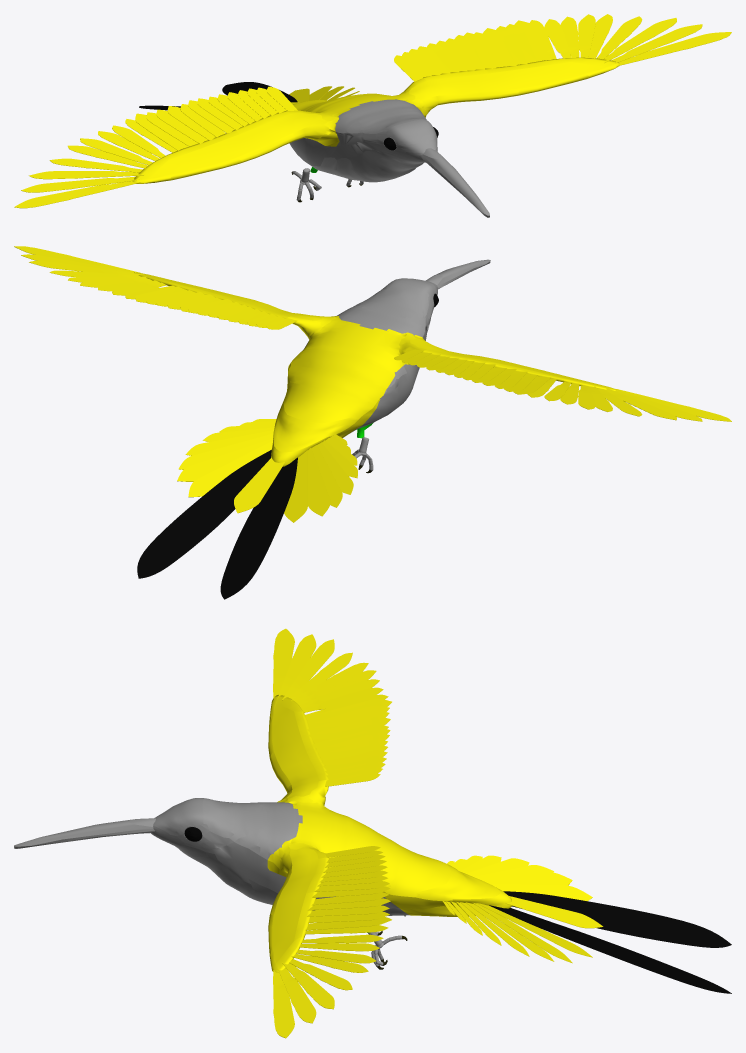
Rendered from Bird.obj.
3 views of the same model, one above another, from view 1: azimuth 30°, elevation 25°; view 2: azimuth 150°, elevation 25°; view 3: azimuth 270°, elevation 25° (orthographic). The views are drawn at different scales.
Visible parts, largest first — view 1: Body01, Bodu, Chub, Kluv, RFeath01, LFeath01, LFeath02, RFeath02, LFeath03, RFeath03, RFeath04, LFeath04 (+8 smaller); view 2: Body01, Pero01, Pero02, Bodu, Chub, Kluv, RFeath01, LFeath01; view 3: Body01, Bodu, Pero02, Chub, Pero01, Kluv, LFeath01, RFeath01, LFeath02, RFeath03, RFeath02, LFeath03 (+1 smaller).
Part boxes in pixels (x1,y1,x2,y2): Body01: (112,19,619,183); Bodu: (289,99,426,182); Chub: (359,108,437,156); Kluv: (419,148,489,217); RFeath01: (14,181,140,208); LFeath01: (616,32,731,66); LFeath02: (611,24,702,63); RFeath02: (21,176,138,192); LFeath03: (604,18,676,62); RFeath03: (29,171,144,179); RFeath04: (49,158,142,172); LFeath04: (597,16,642,59); Body01: (112,272,619,522); Pero01: (137,449,271,578); Pero02: (220,457,297,599); Bodu: (303,294,434,432); Chub: (359,278,437,318); Kluv: (425,259,490,289); RFeath01: (616,389,731,421); LFeath01: (14,246,140,272); Body01: (267,687,603,972); Bodu: (150,802,410,915); Pero02: (503,891,731,947); Chub: (153,798,266,849); Pero01: (489,905,731,993); Kluv: (14,818,155,848); LFeath01: (273,970,294,1038); RFeath01: (273,628,294,698); LFeath02: (278,968,316,1023); RFeath03: (282,639,334,700); RFeath02: (277,634,316,698); LFeath03: (282,962,334,1009).
Bounding box in the file's own units: 16.15 × 3 × 11.96.
